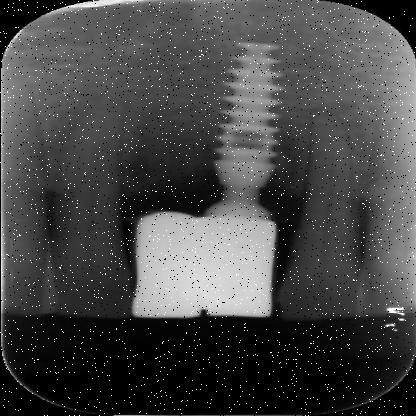Bicon: (208, 41, 281, 166)
